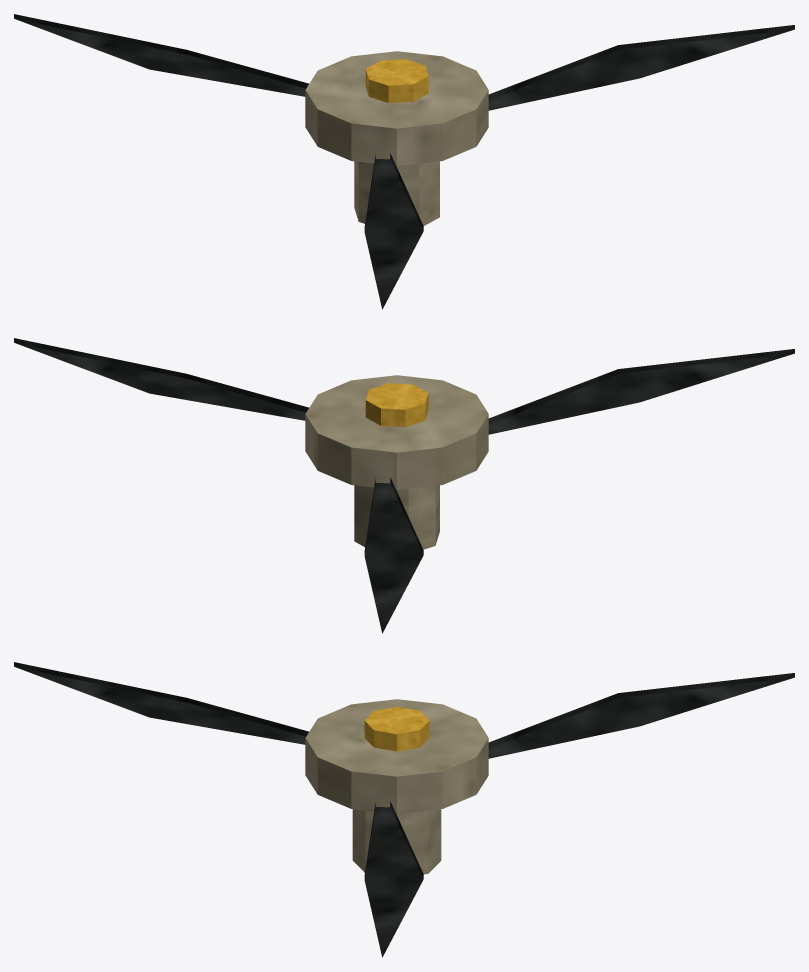
The model's file is DR_Propeller.fbx.
3 views of the same model, one above another, from view 1: azimuth 30°, elevation 25°; view 2: azimuth 150°, elevation 25°; view 3: azimuth 270°, elevation 25° (orthographic).
Parts seen in each view (by area): view 1: PropellerHub, PropellerBlade.0, PropellerBlade.1, PropellerBlade.2, PropellerCollet, PropellerLockNut; view 2: PropellerHub, PropellerBlade.2, PropellerBlade.0, PropellerBlade.1, PropellerCollet, PropellerLockNut; view 3: PropellerHub, PropellerBlade.1, PropellerBlade.2, PropellerBlade.0, PropellerCollet, PropellerLockNut.
Boxes of the visible parts, box(x1,y1,x2,y2) form: PropellerHub: box(305, 51, 488, 165); PropellerBlade.0: box(488, 25, 794, 110); PropellerBlade.1: box(14, 14, 308, 96); PropellerBlade.2: box(364, 153, 423, 309); PropellerCollet: box(354, 161, 439, 225); PropellerLockNut: box(365, 59, 428, 102); PropellerHub: box(305, 375, 488, 489); PropellerBlade.2: box(488, 349, 794, 434); PropellerBlade.0: box(14, 338, 308, 420); PropellerBlade.1: box(364, 477, 423, 633); PropellerCollet: box(354, 485, 439, 549); PropellerLockNut: box(365, 383, 428, 427); PropellerHub: box(305, 699, 488, 813); PropellerBlade.1: box(488, 673, 794, 758); PropellerBlade.2: box(14, 662, 308, 744); PropellerBlade.0: box(364, 801, 423, 957); PropellerCollet: box(352, 809, 441, 874); PropellerLockNut: box(364, 707, 429, 751).
Bounding box in the file's own units: 4.66 × 1.04 × 5.28.
Materials: 1 (1 with a texture image).
